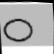no answer: (1, 15, 32, 42)
